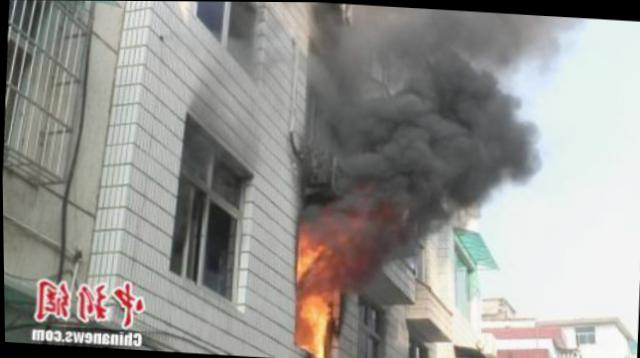fire: (293, 222, 341, 357)
